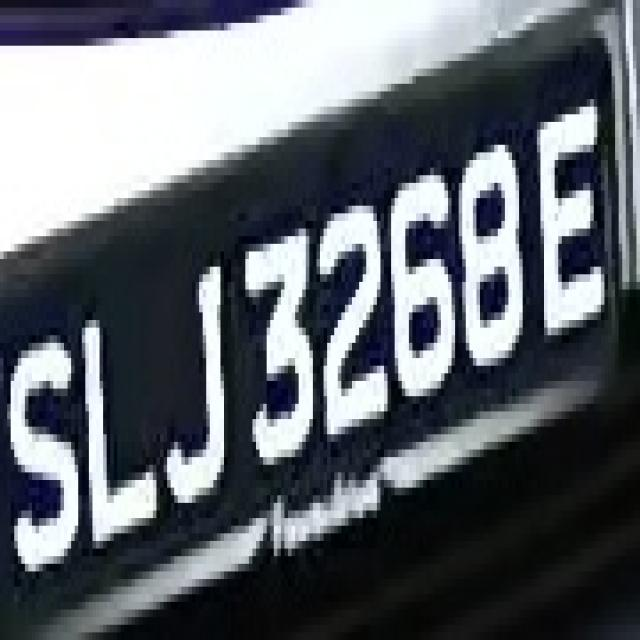2: (309, 183, 395, 449)
3: (231, 213, 327, 488)
6: (384, 160, 455, 442)
8: (452, 137, 530, 389)
E: (533, 84, 615, 366)
J: (142, 236, 231, 534)
L: (78, 282, 167, 564)
S: (4, 305, 78, 617)
